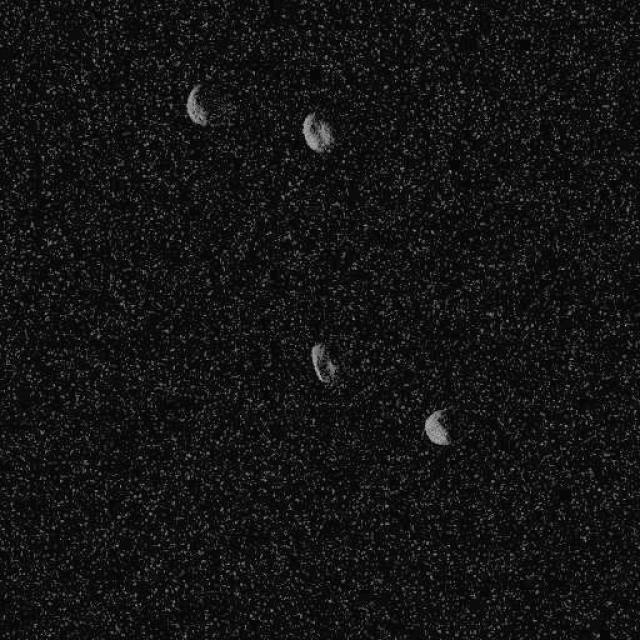D2: (301, 110, 335, 154), (422, 408, 452, 447), (309, 341, 336, 384), (185, 82, 209, 126)
